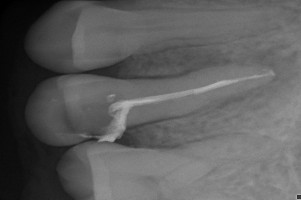Furcation Involvement: (208, 37, 301, 113)
